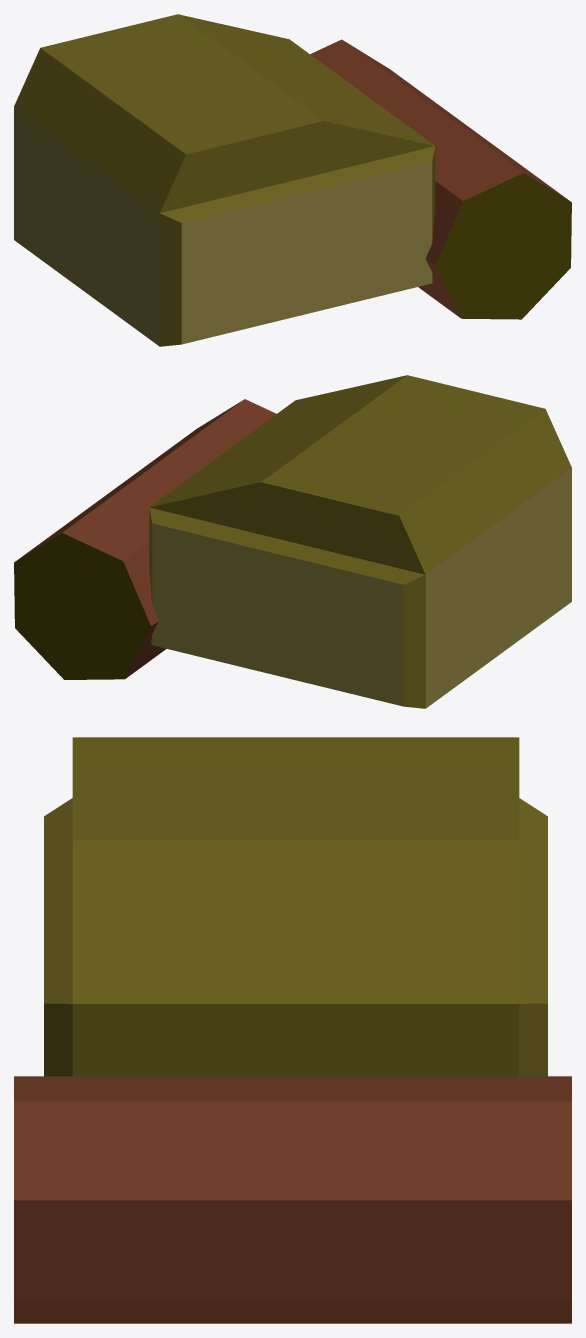
File: merchant_bag.glb
3 views of the same model, one above another, from view 1: azimuth 30°, elevation 25°; view 2: azimuth 150°, elevation 25°; view 3: azimuth 270°, elevation 25° (orthographic). The views are drawn at different scales.
Visible parts, largest first — view 1: merchant.003; view 2: merchant.003; view 3: merchant.003.
Part boxes in pixels (<box>): merchant.003: <box>14,14,571,346</box>; merchant.003: <box>14,375,571,708</box>; merchant.003: <box>14,737,571,1323</box>.
Bounding box in the file's own units: 1.25 × 0.6945 × 1.
1 material, 1 textured.
